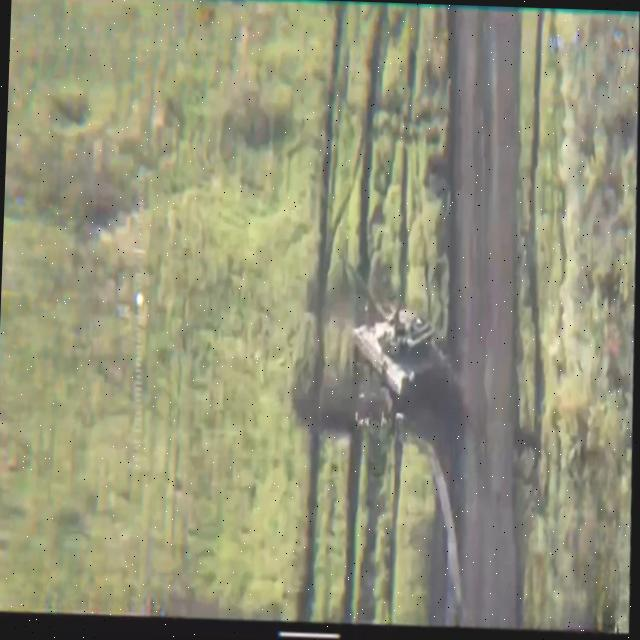MBT: (336, 252, 453, 410)
